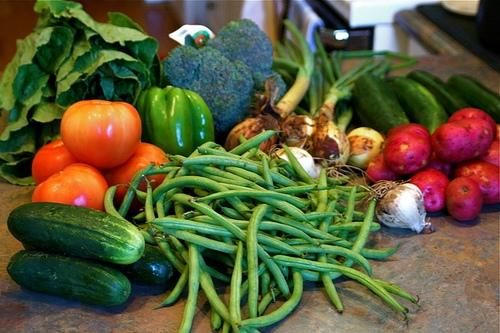bell pepper: (134, 85, 215, 157)
broccoli: (161, 45, 254, 148), (206, 18, 273, 91)
cucumber: (7, 201, 146, 265), (6, 249, 131, 306), (76, 244, 173, 287), (352, 75, 409, 142), (402, 70, 474, 119), (391, 76, 448, 136), (446, 72, 500, 124)
garlic: (369, 180, 434, 234), (274, 146, 319, 178)
green bean: (162, 192, 290, 300), (267, 254, 410, 322), (264, 212, 403, 258), (299, 200, 376, 282), (148, 218, 300, 256), (170, 235, 232, 326), (179, 154, 307, 198), (153, 176, 253, 220), (142, 174, 186, 274), (164, 142, 222, 216), (236, 267, 303, 329), (186, 216, 320, 246), (260, 244, 372, 278), (246, 203, 276, 318), (317, 192, 344, 314), (104, 184, 157, 246), (163, 155, 254, 187), (152, 224, 238, 256), (187, 189, 307, 209), (247, 196, 316, 228), (189, 164, 268, 190), (178, 241, 200, 333), (119, 163, 155, 218), (230, 240, 246, 333), (282, 145, 319, 184), (372, 279, 420, 308), (304, 170, 328, 228), (337, 186, 360, 240), (223, 166, 279, 188), (221, 237, 247, 270), (327, 221, 380, 234), (261, 154, 278, 192), (288, 211, 342, 222), (327, 189, 369, 202), (202, 251, 234, 268), (218, 204, 247, 220), (274, 184, 318, 194), (274, 260, 288, 280), (261, 269, 270, 298), (242, 144, 260, 158), (184, 184, 212, 192), (346, 231, 360, 244), (182, 211, 204, 219)
potato: (430, 118, 494, 163), (383, 124, 432, 174), (453, 159, 500, 205), (410, 167, 451, 212), (446, 177, 484, 221), (447, 108, 496, 138), (424, 150, 458, 181), (366, 153, 400, 183), (478, 140, 500, 166)
tomato: (98, 142, 170, 226), (59, 100, 142, 168), (32, 162, 108, 211), (32, 139, 82, 185)
